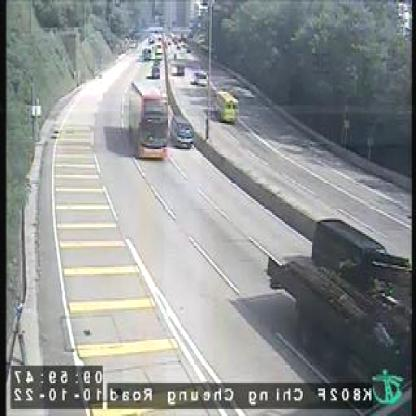Car: (313, 217, 393, 280), (214, 89, 238, 124), (174, 121, 193, 148), (196, 69, 208, 84), (172, 65, 182, 76)
Truck: (266, 255, 416, 416), (132, 79, 166, 159)
